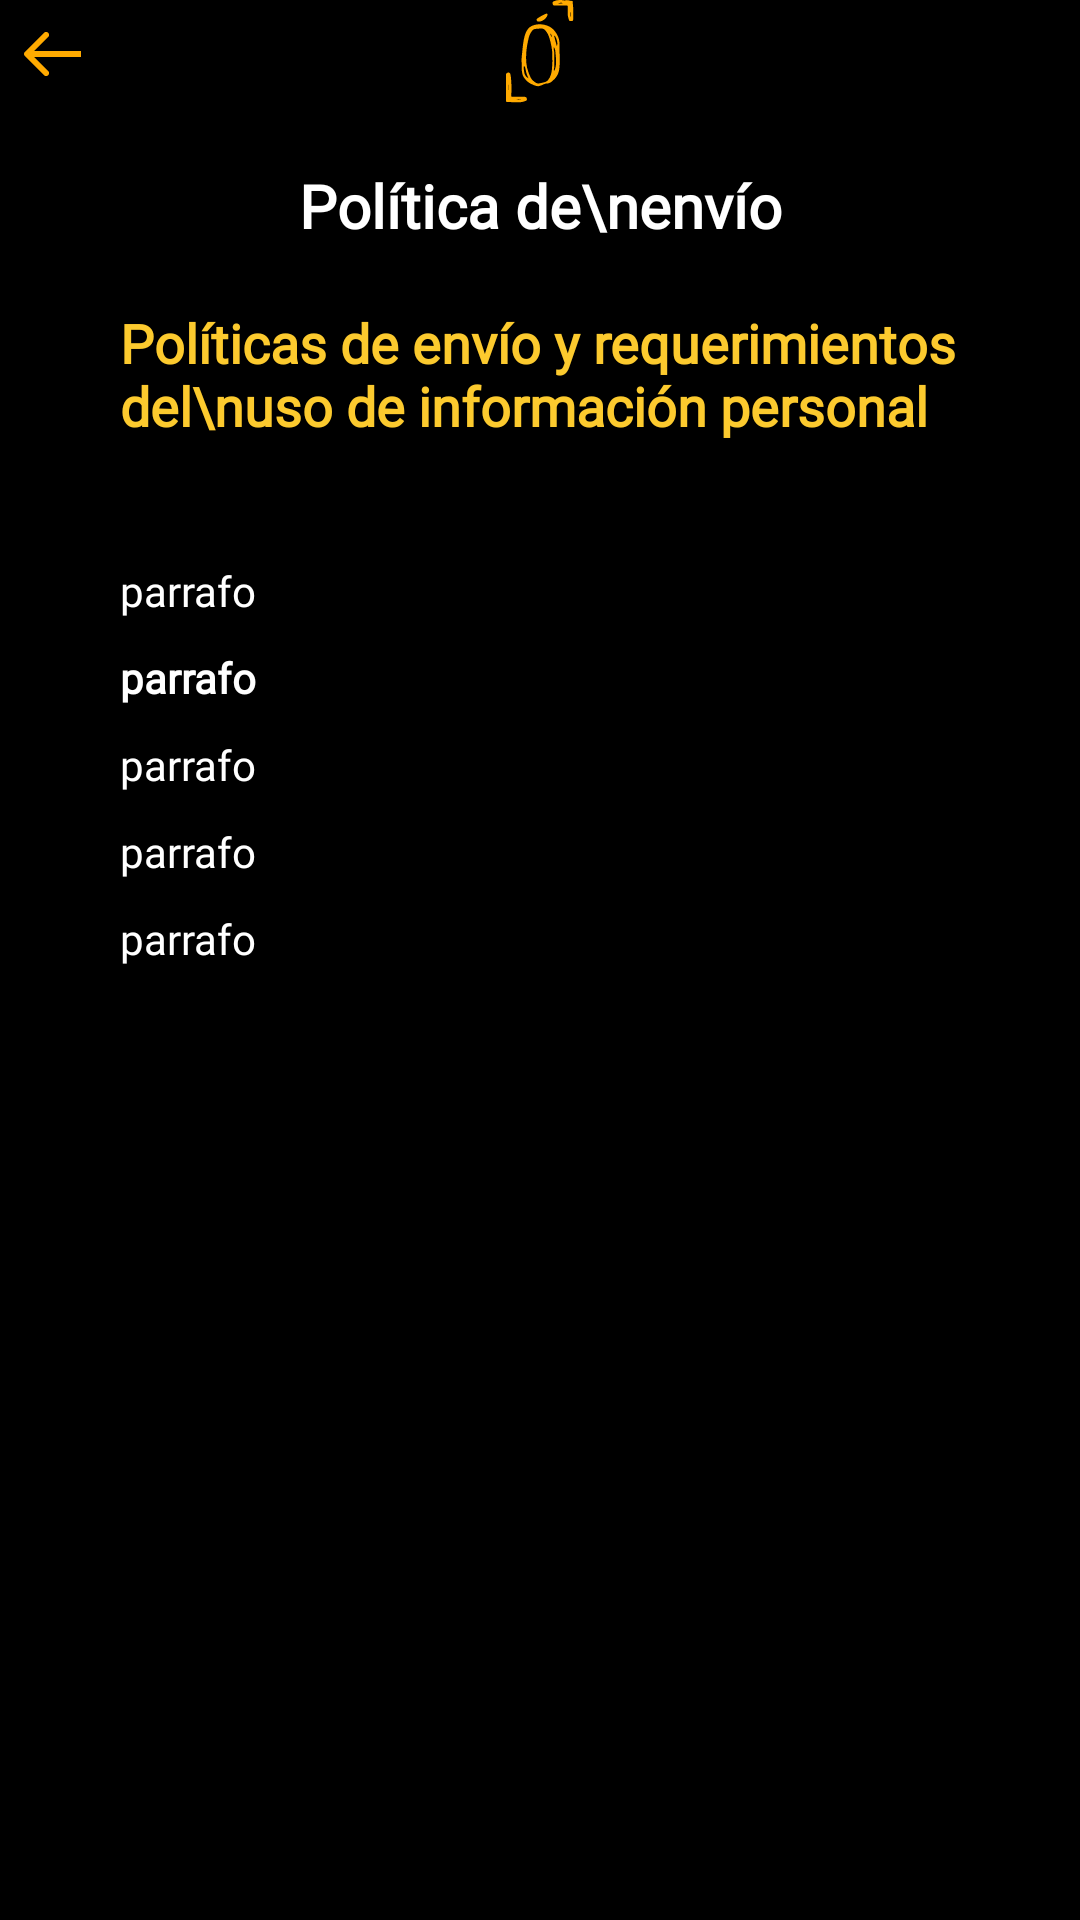

Screen size 1080×1920. Icon name, then its box in pixels as (x1, y1, x2, y2):
back: (24, 32, 81, 76)
